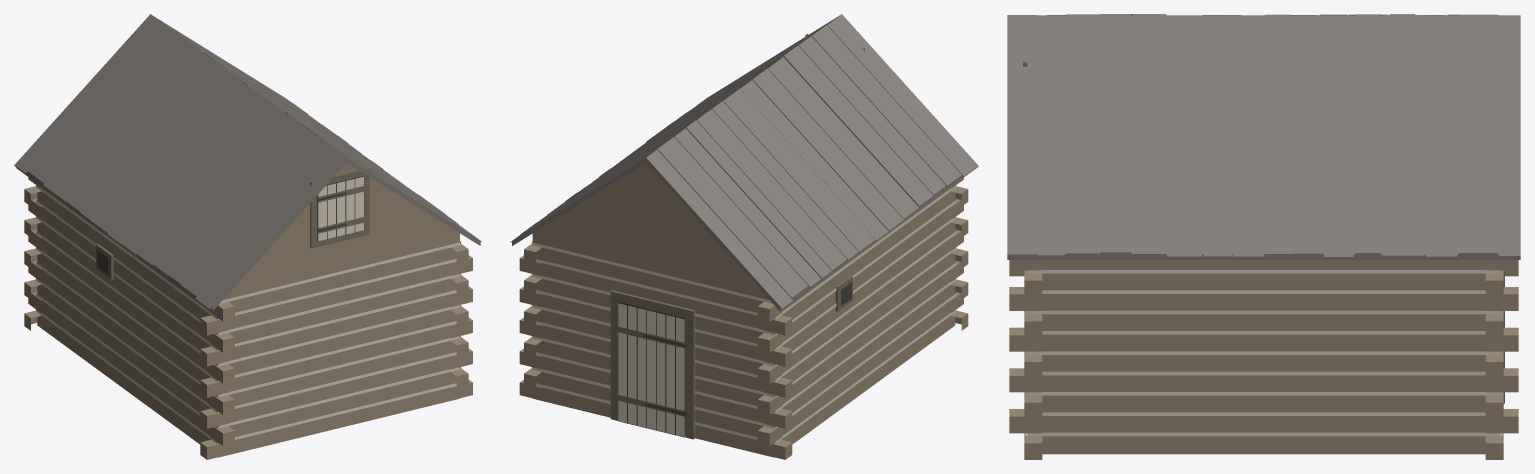
Rendered from recon_1835_blk_washington_market_a1_02__inferred_1835.glb.
3 renders of one model, left to right at view 1: azimuth 30°, elevation 25°; view 2: azimuth 150°, elevation 25°; view 3: azimuth 270°, elevation 25°, orthographic. The views are drawn at different scales.
Parts seen in each view (by area): view 1: recon_1835_blk_washington_market_a1_02__inferred_1835; view 2: recon_1835_blk_washington_market_a1_02__inferred_1835; view 3: recon_1835_blk_washington_market_a1_02__inferred_1835.
Part boxes in pixels (left/top/right/bottom): recon_1835_blk_washington_market_a1_02__inferred_1835: left=14, top=14, right=481, bottom=459; recon_1835_blk_washington_market_a1_02__inferred_1835: left=510, top=14, right=978, bottom=459; recon_1835_blk_washington_market_a1_02__inferred_1835: left=1007, top=14, right=1520, bottom=459.
Bounding box in the file's own units: 5.49 × 5.33 × 6.83.
